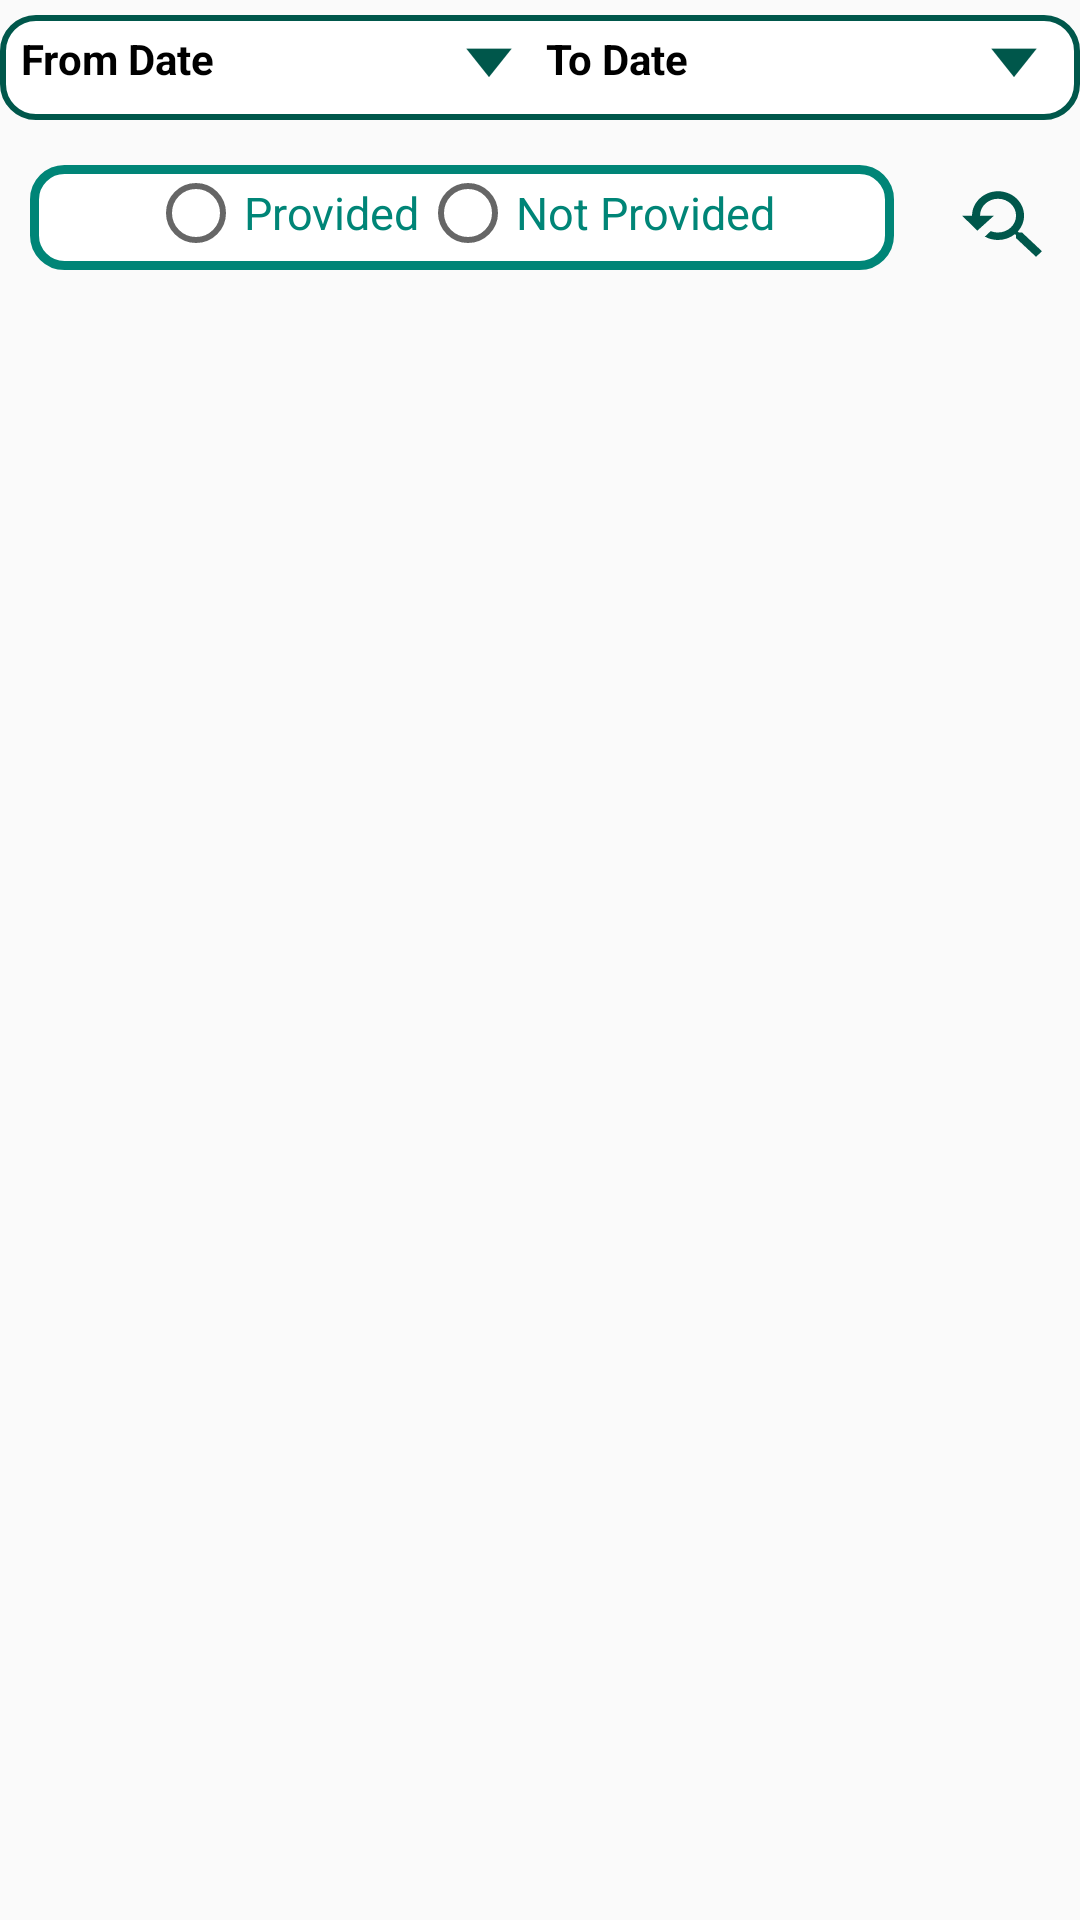

Icon click points for this 1080*1920 phone screenshot, format point (x, y):
spinerimage: point (489, 62), point (1014, 62)
youtube searched for: point (1002, 224)
